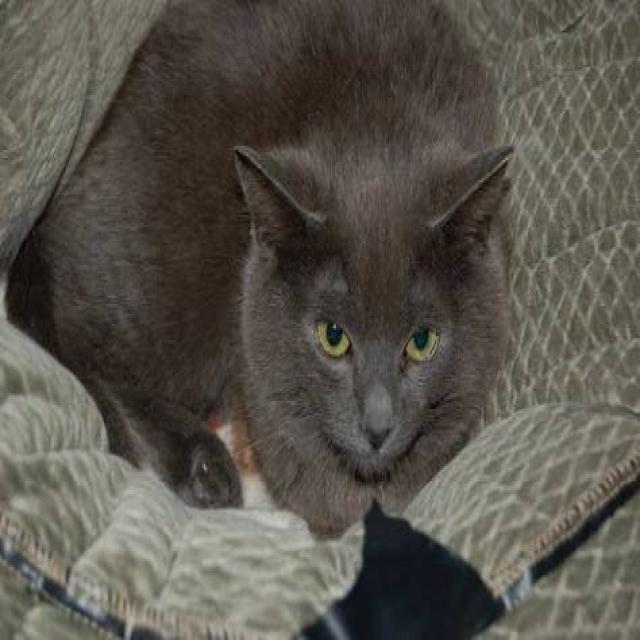cat: (4, 0, 516, 539)
